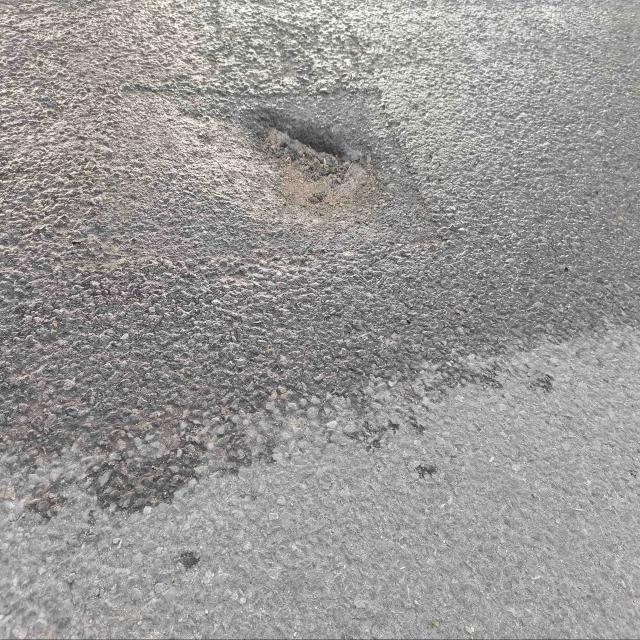pothole: (250, 98, 378, 237)
